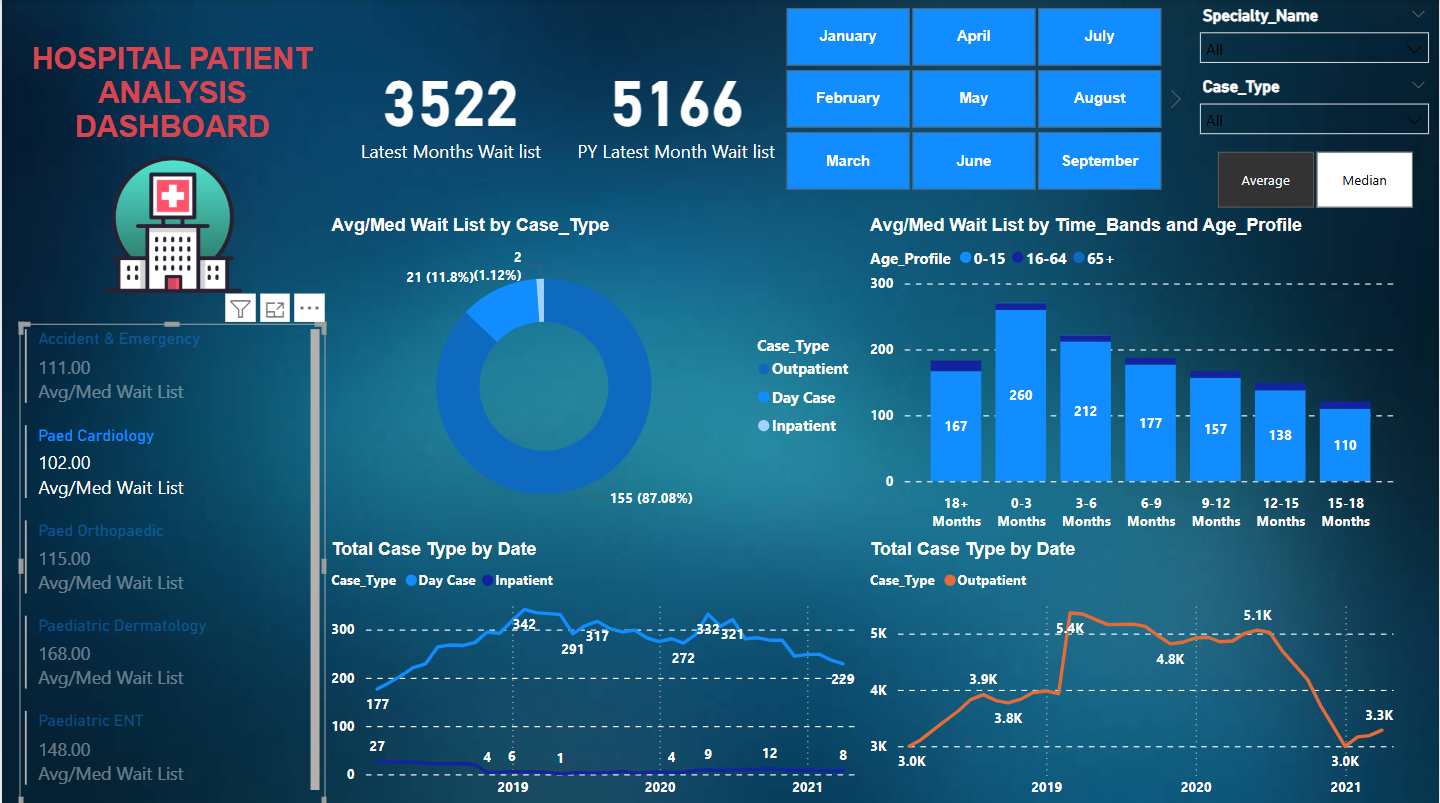

What the dashboard file says about the page in this screenshot:
{"tool":"powerbi","page":{"name":"Page 1","canvas":[1280,720],"ordinal":0},"visuals":[{"type":"card","fields":{"Values":["All_Data.Latest Months Wait list"]},"box":[304,32,192,128],"z":0},{"type":"card","fields":{"Values":["All_Data.PY Latest Month Wait list"]},"box":[496,32,208,128],"z":1000},{"type":"slicer","fields":{"Values":["calcuation method.calc Method"]},"box":[1056,128,224,64],"z":2000},{"type":"donutChart","fields":{"Category":["All_Data.Case_Type"],"Y":["All_Data.Avg/Med Wait List"]},"box":[288,192,480,288],"z":3000},{"type":"columnChart","fields":{"Y":["All_Data.Avg/Med Wait List"],"Series":["All_Data.Age_Profile"],"Category":["All_Data.Time_Bands"]},"box":[768,192,480,288],"z":4000},{"type":"multiRowCard","fields":{"Values":["All_Data.Specialty_Name","All_Data.Avg/Med Wait List"]},"box":[16,288,272,432],"z":5000},{"type":"lineChart","title":"Total Case Type by Date","fields":{"Series":["All_Data.Case_Type"],"Category":["All_Data.Archive_Date"],"Y":["Sum(All_Data.Total)"]},"box":[288,480,480,240],"z":6000},{"type":"lineChart","title":"Total Case Type by Date","fields":{"Series":["All_Data.Case_Type"],"Category":["All_Data.Archive_Date"],"Y":["Sum(All_Data.Total)"]},"box":[768,480,480,240],"z":7000},{"type":"slicer","fields":{"Values":["All_Data.Archive_Date.Variation.Date Hierarchy.Month"]},"box":[672,0,384,176],"z":8000},{"type":"slicer","fields":{"Values":["All_Data.Case_Type"]},"box":[1056,64,224,64],"z":9000},{"type":"slicer","fields":{"Values":["All_Data.Specialty_Name"]},"box":[1056,0,224,64],"z":10000},{"type":"textbox","box":[16,32,272,128],"z":11000},{"type":"image","box":[80,128,144,144],"z":12000}]}

Visuals, with their boxes in screenshot pixels (x1, y1, x2, y2), scaled from the page's 1280x720 canvas onto the 1440x803 screenshot:
card - All_Data.Latest Months Wait list: 342:36:558:178
card - All_Data.PY Latest Month Wait list: 558:36:792:178
slicer - calcuation method.calc Method: 1188:143:1439:214
donutChart - All_Data.Case_Type x All_Data.Avg/Med Wait List: 324:214:864:535
columnChart - All_Data.Avg/Med Wait List x All_Data.Age_Profile: 864:214:1404:535
multiRowCard - All_Data.Specialty_Name x All_Data.Avg/Med Wait List: 18:321:324:802
"Total Case Type by Date" lineChart: 324:535:864:802
"Total Case Type by Date" lineChart: 864:535:1404:802
slicer - All_Data.Archive_Date.Variation.Date Hierarchy.Month: 756:0:1188:196
slicer - All_Data.Case_Type: 1188:71:1439:143
slicer - All_Data.Specialty_Name: 1188:0:1439:71
textbox: 18:36:324:178
image: 90:143:252:303
